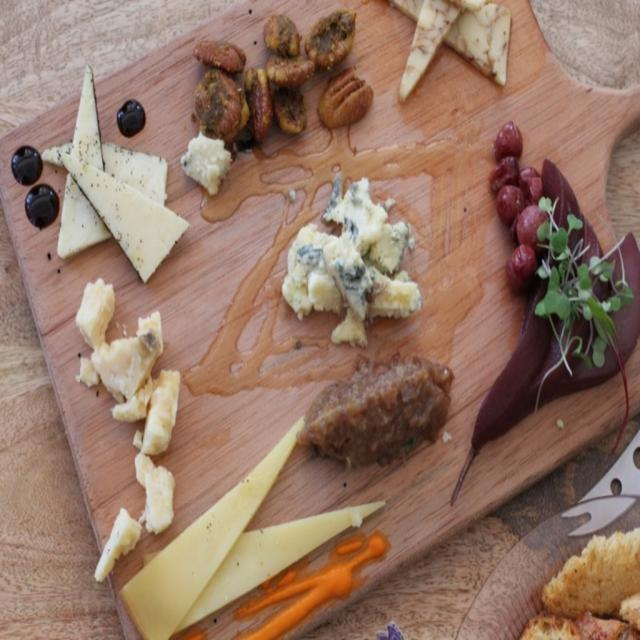Cheese: (121, 413, 309, 639), (177, 500, 389, 634), (55, 150, 187, 286), (54, 59, 108, 256), (42, 142, 170, 201)
